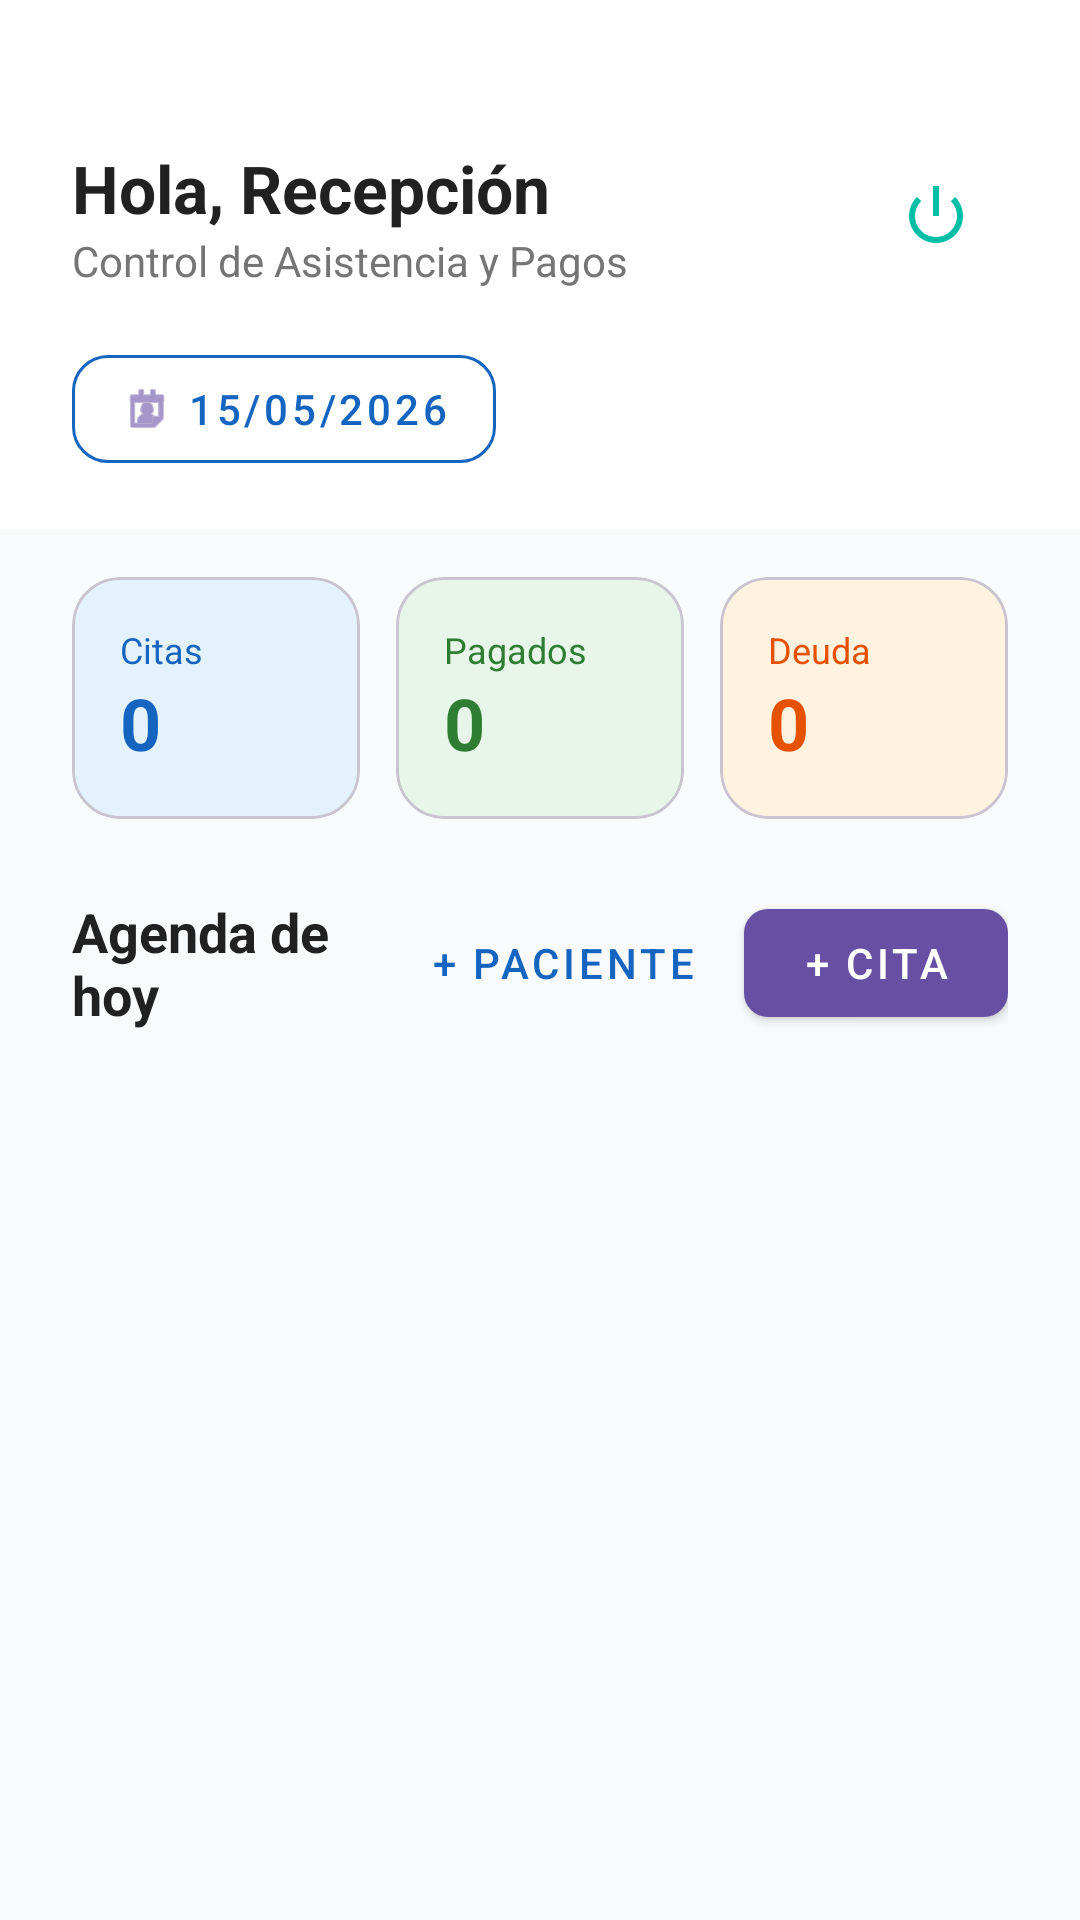

Icon bounding boxes for this 1080px x 1920px phone screenshot, format (x1, y1, x2, y2):
lock power off: (909, 186, 963, 243)
